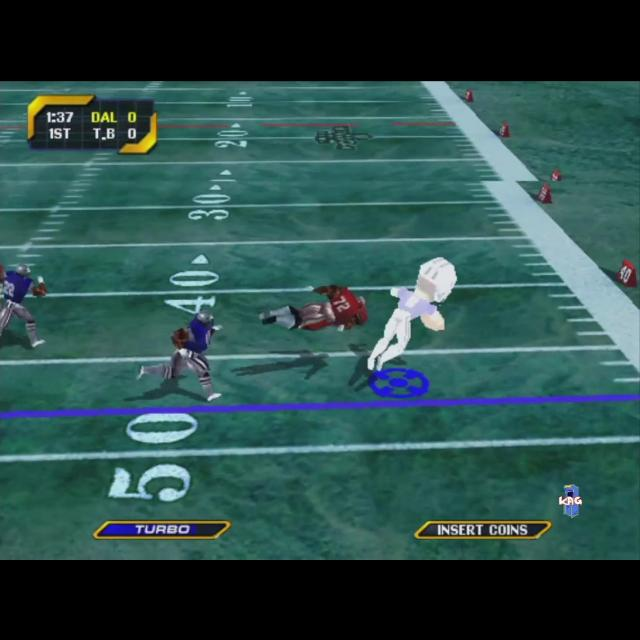player: (368, 256, 457, 372), (137, 310, 223, 400), (259, 284, 369, 330), (0, 263, 48, 347)
